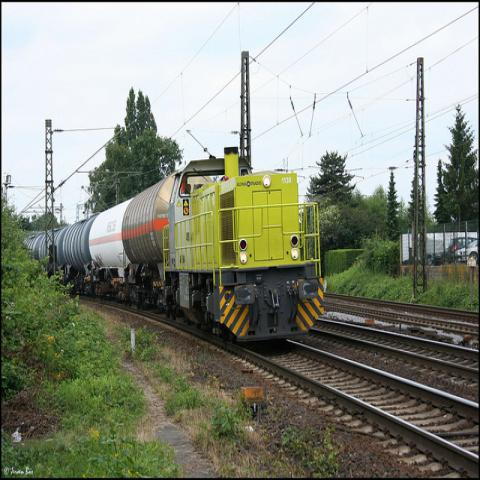car: (431, 239, 465, 265), (456, 240, 478, 263)
